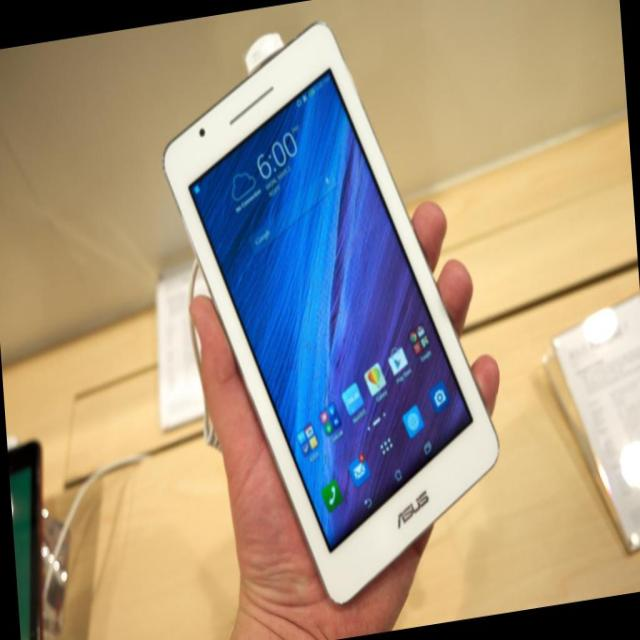handphone: (172, 30, 483, 580)
